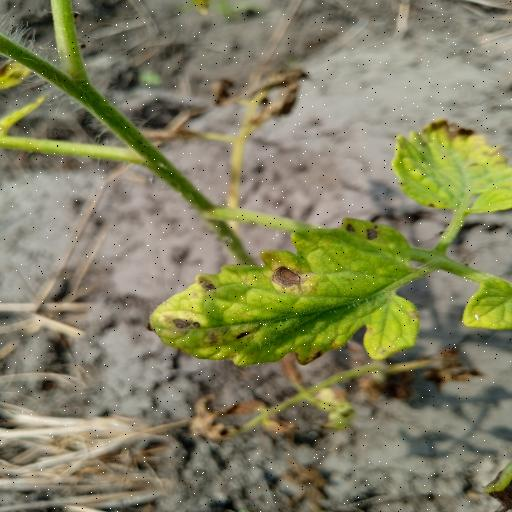Tomato_Brown_Spots: (146, 224, 426, 368)
